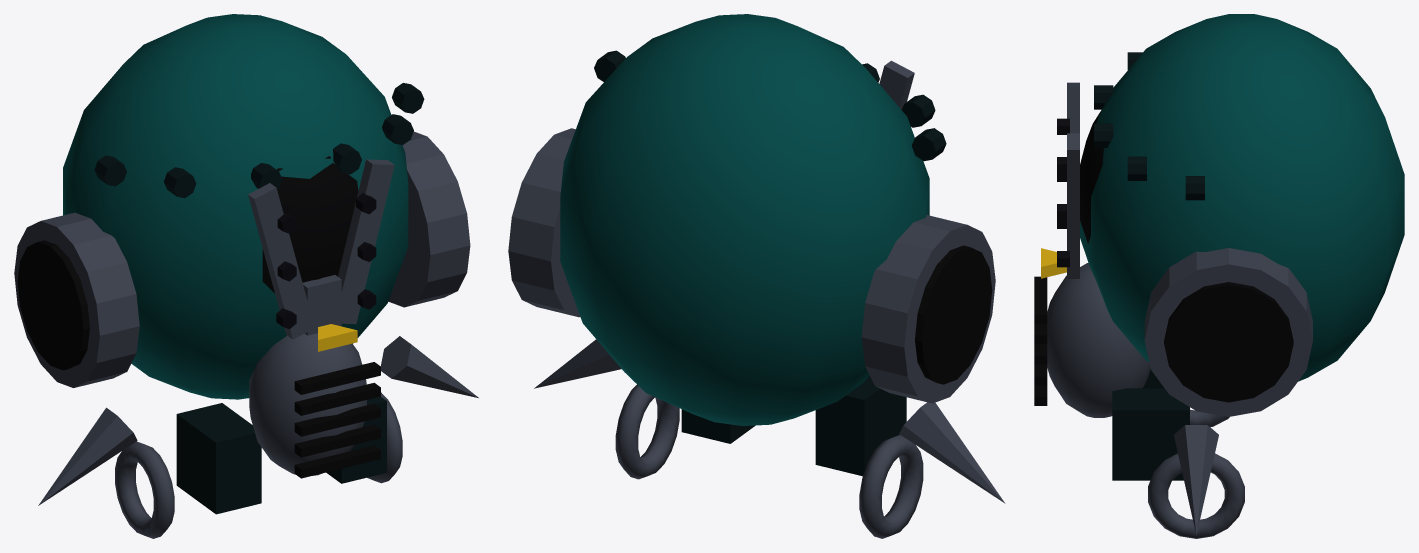
Rendered from Enemy_saboteur.fbx.
3 renders of one model, left to right at view 1: azimuth 30°, elevation 25°; view 2: azimuth 150°, elevation 25°; view 3: azimuth 270°, elevation 25°, orthographic. The views are drawn at different scales.
Visible parts, largest first — view 1: Enemy_saboteur; view 2: Enemy_saboteur; view 3: Enemy_saboteur.
Boxes of the visible parts, bbox=[...] form: Enemy_saboteur: bbox=[14, 14, 478, 538]; Enemy_saboteur: bbox=[508, 14, 1005, 538]; Enemy_saboteur: bbox=[1034, 14, 1404, 538].
Size of the model in its own units: 0.7749 by 0.776 by 0.5711.
